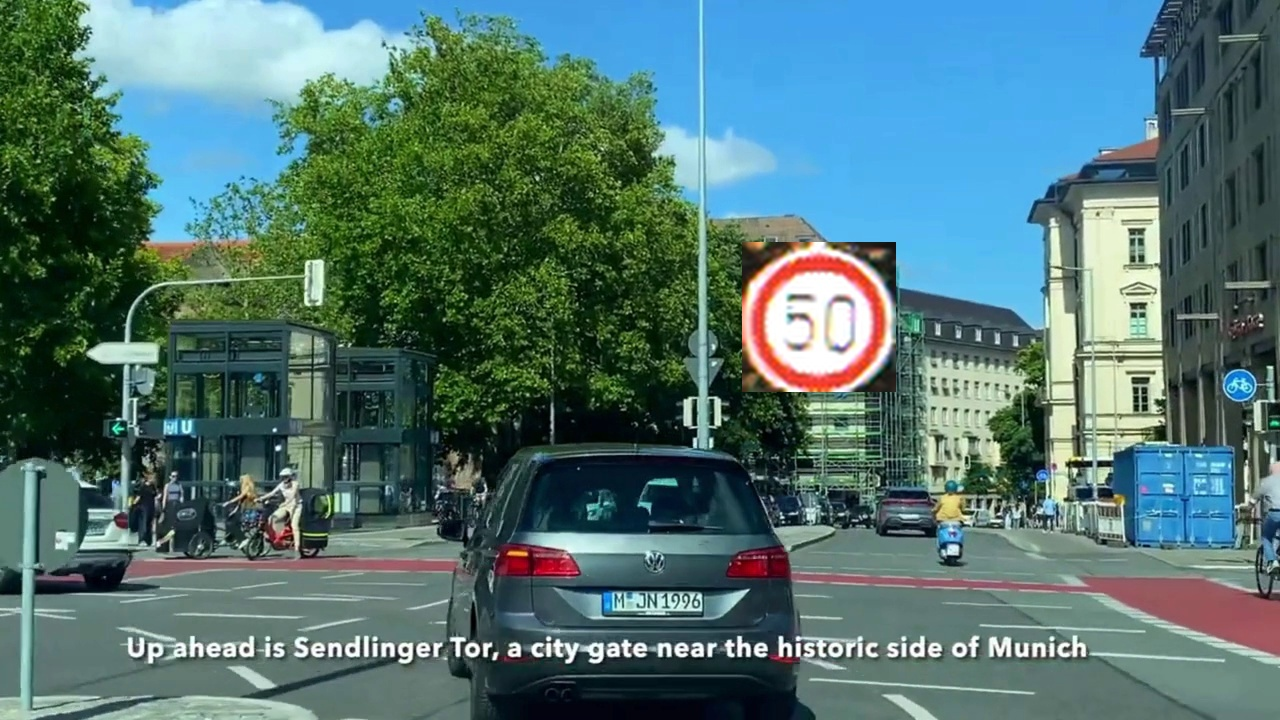Speed 50: (742, 242, 896, 392)
